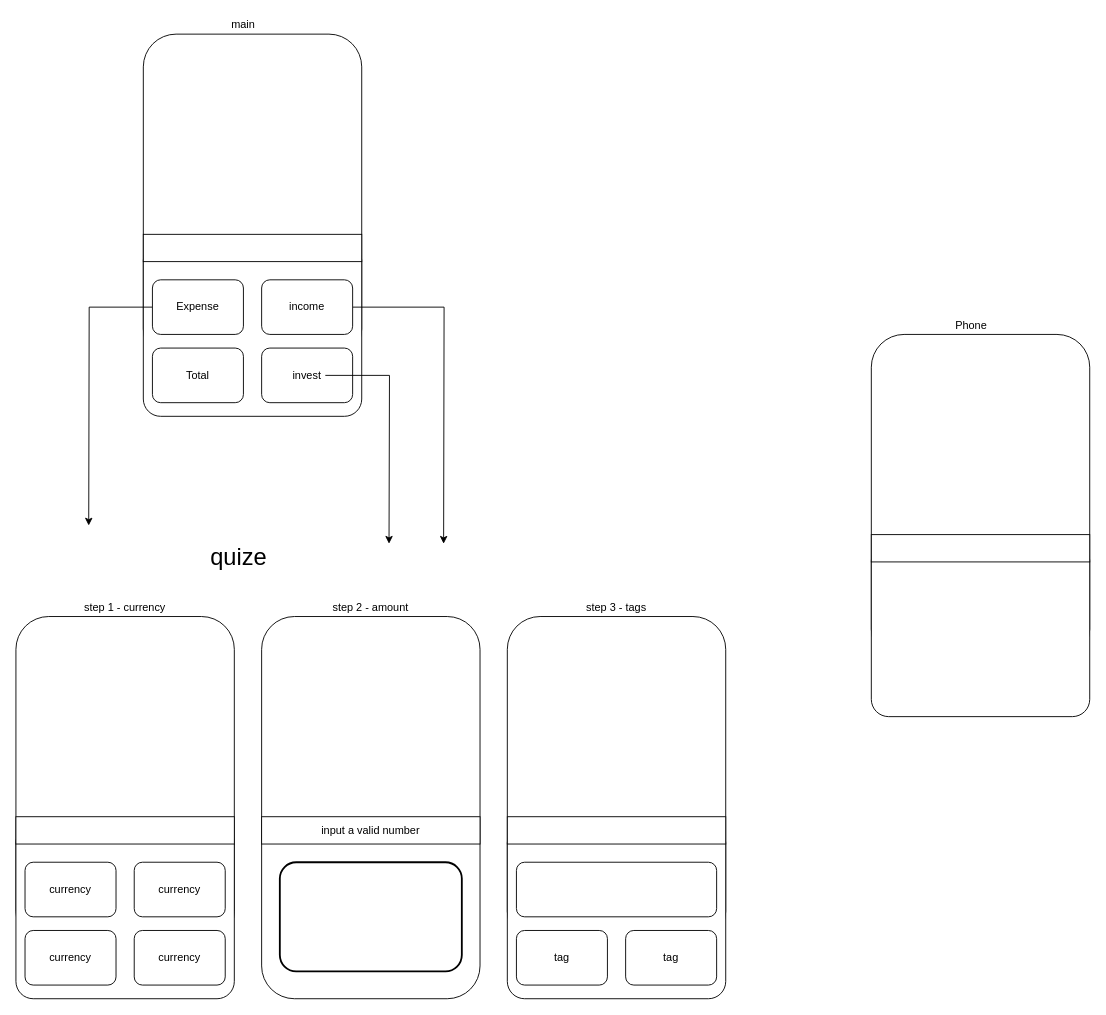
The diagram is 1106 pixels wide and 1015 high, and some of its shapes have lost their labels. The shapes that lost their labels are listed below. From the top down, each one's centre as x and y in pixels, then its label:
point (616, 889): finish
point (370, 916): keyboard
